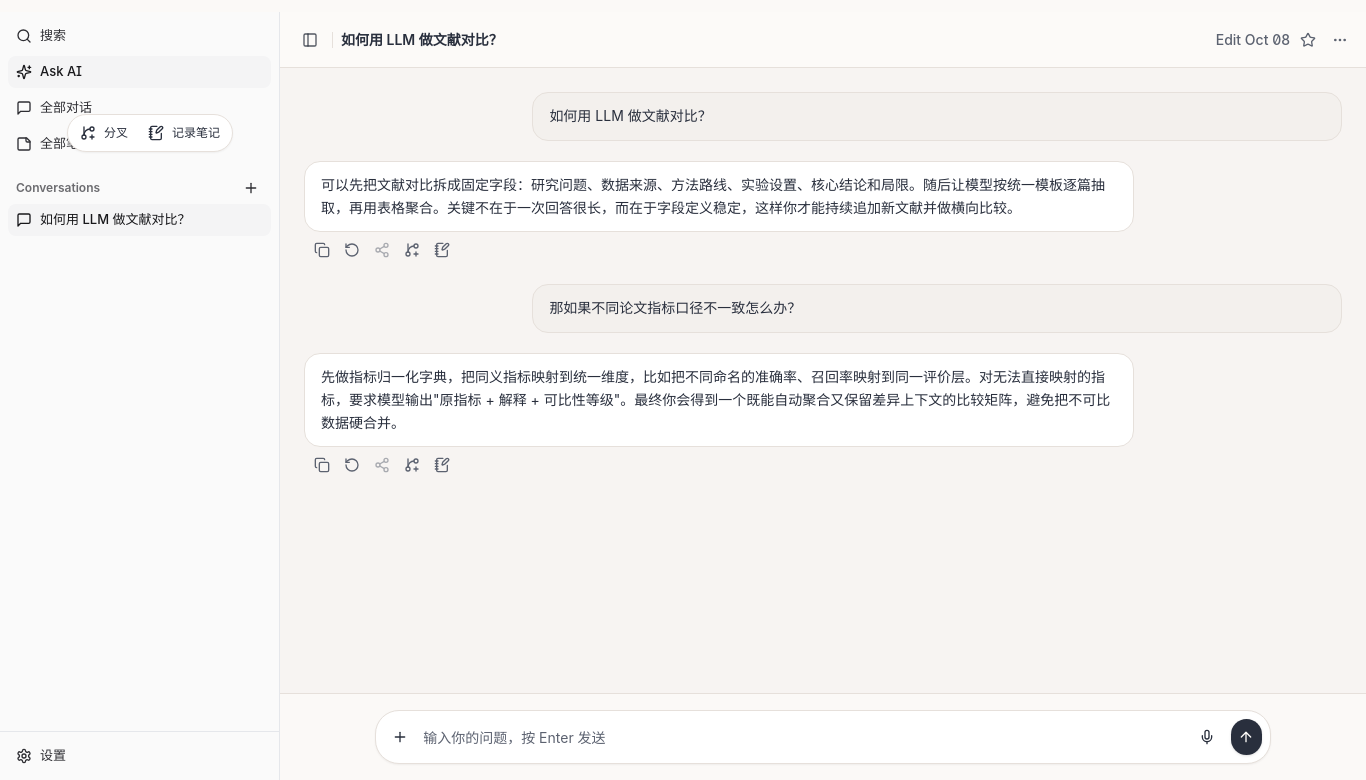
Test: HomePage › creates first graph block with quoted question style after selection branch follow-up
The image size is (1366, 780).
Step 1. Click the button with aria-label "Create branch from selection" → (104, 133), box [72,119,136,147]
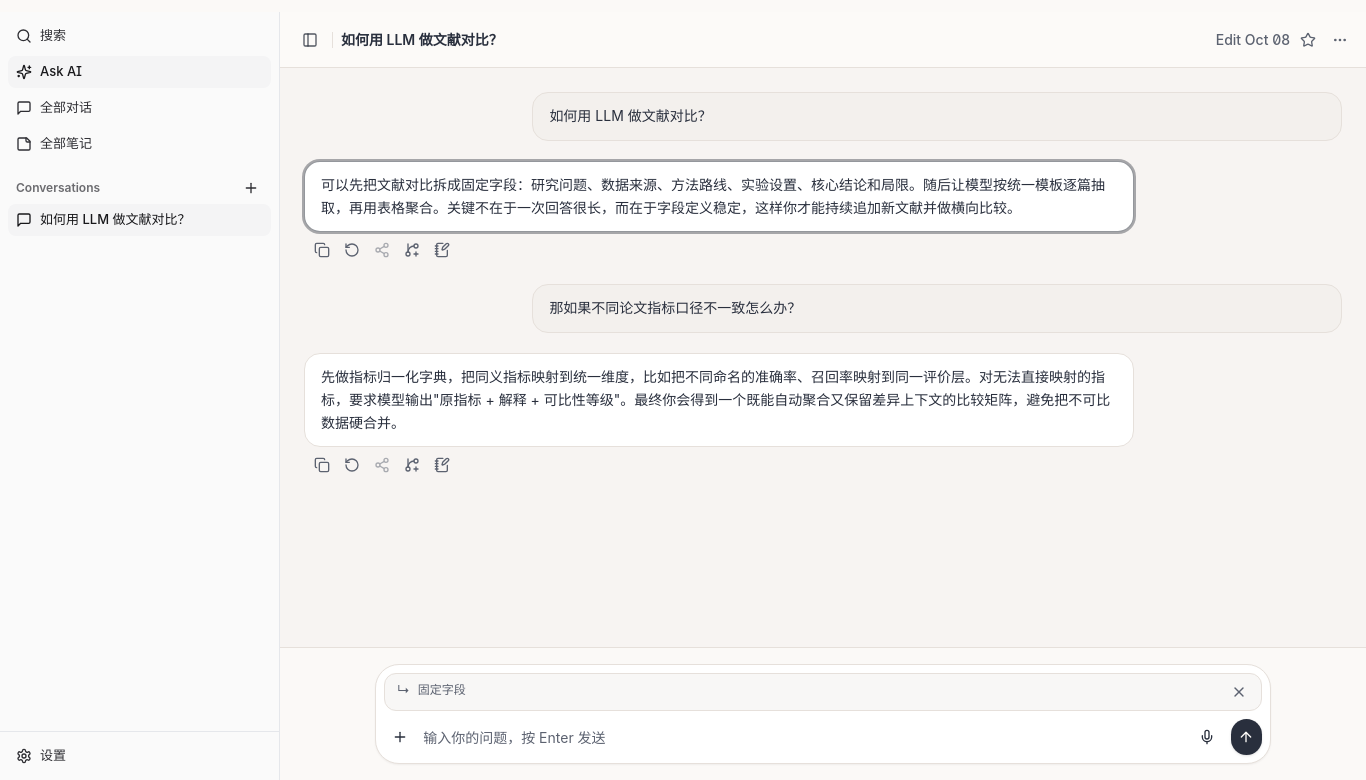
Expected: the text "固定字段" is shown, [321,176,1105,216]
Step 2. Type "请继续深入" into the field named "聊天输入" → (803, 737), box [423,719,1184,755]
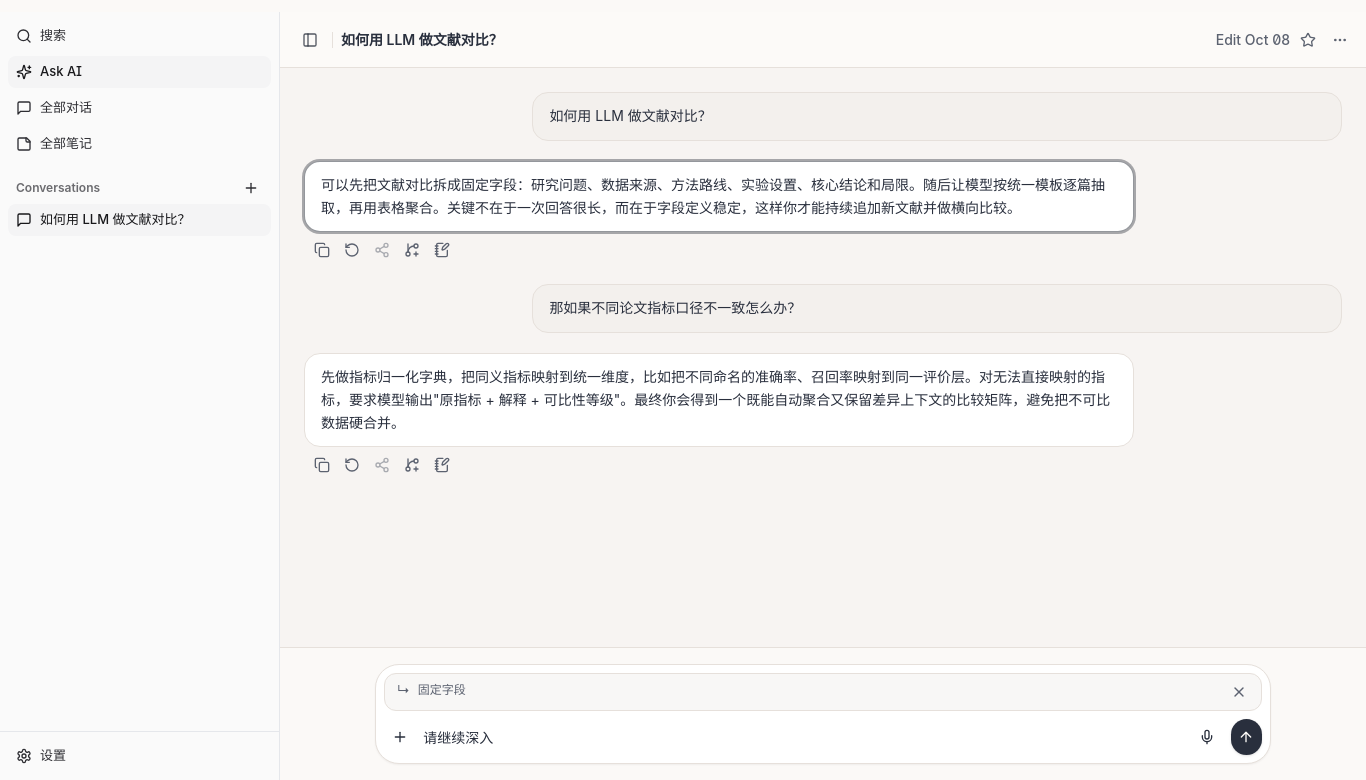
Step 3. Press Enter in the field named "聊天输入", box [423,719,1184,755]
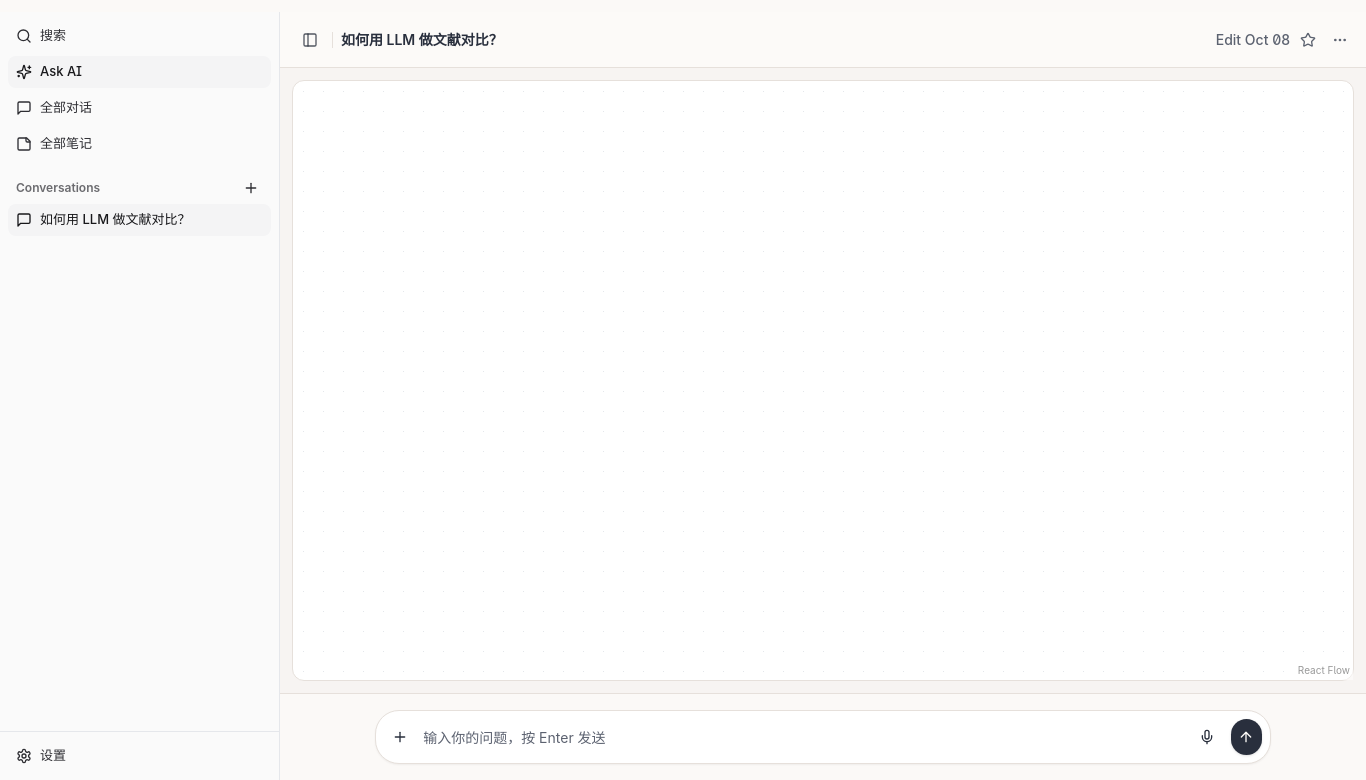
Result: the element with test id "graph-canvas" is shown at [292,80,1354,681]
